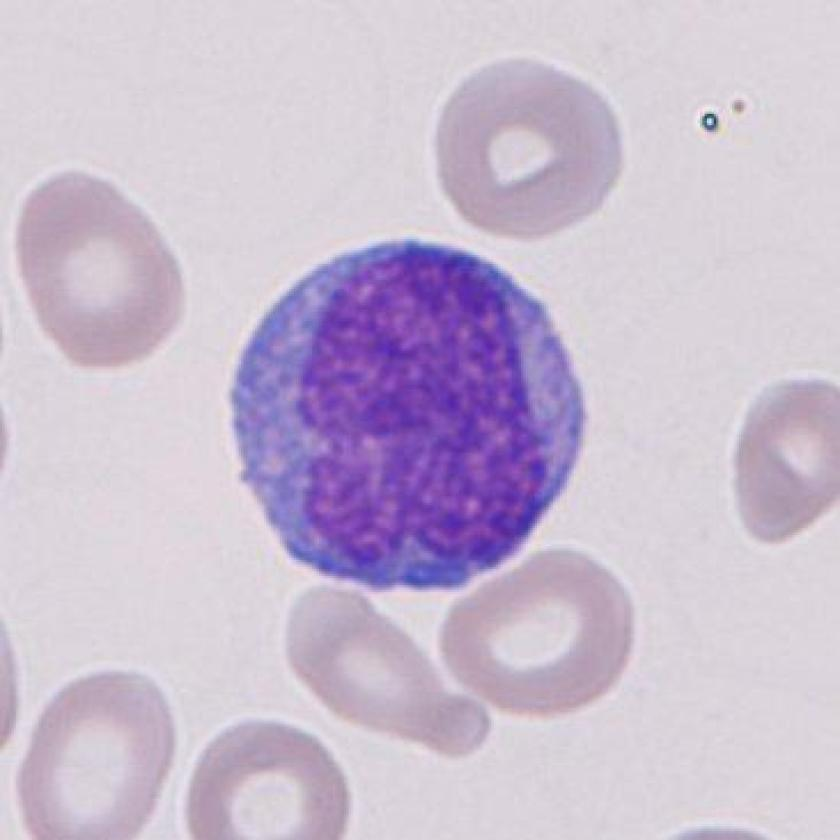monocyte: (208, 217, 616, 611)
